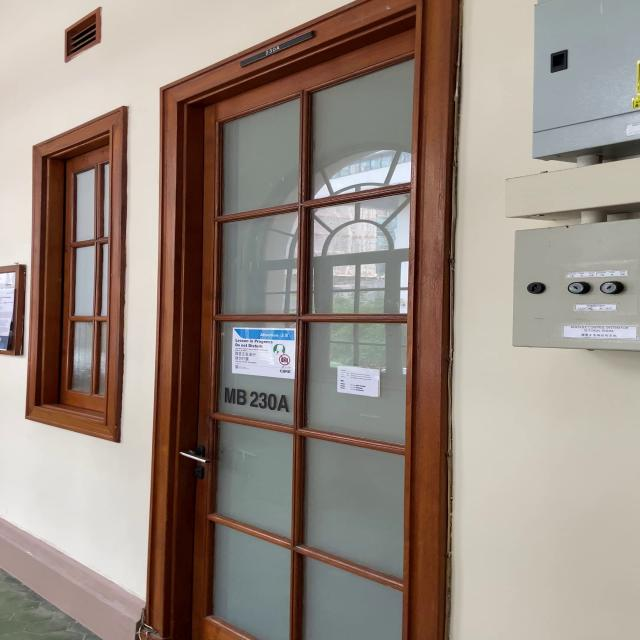room230A: (261, 44, 282, 57)
room230AWindow: (218, 385, 292, 415)
